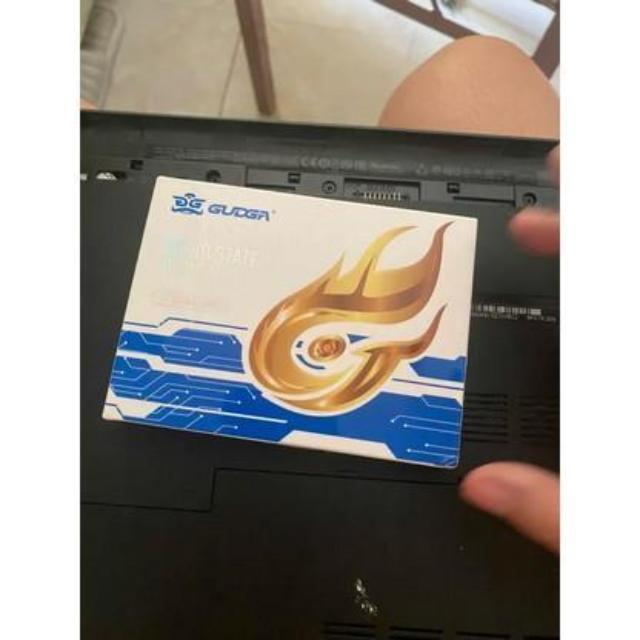DISK: (106, 170, 492, 476)
